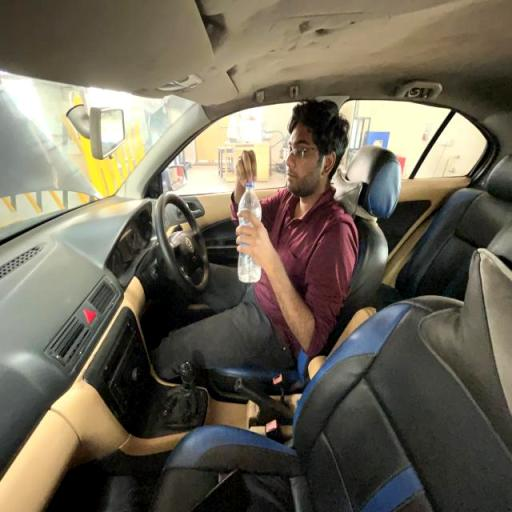Drinking: (213, 96, 361, 354)
